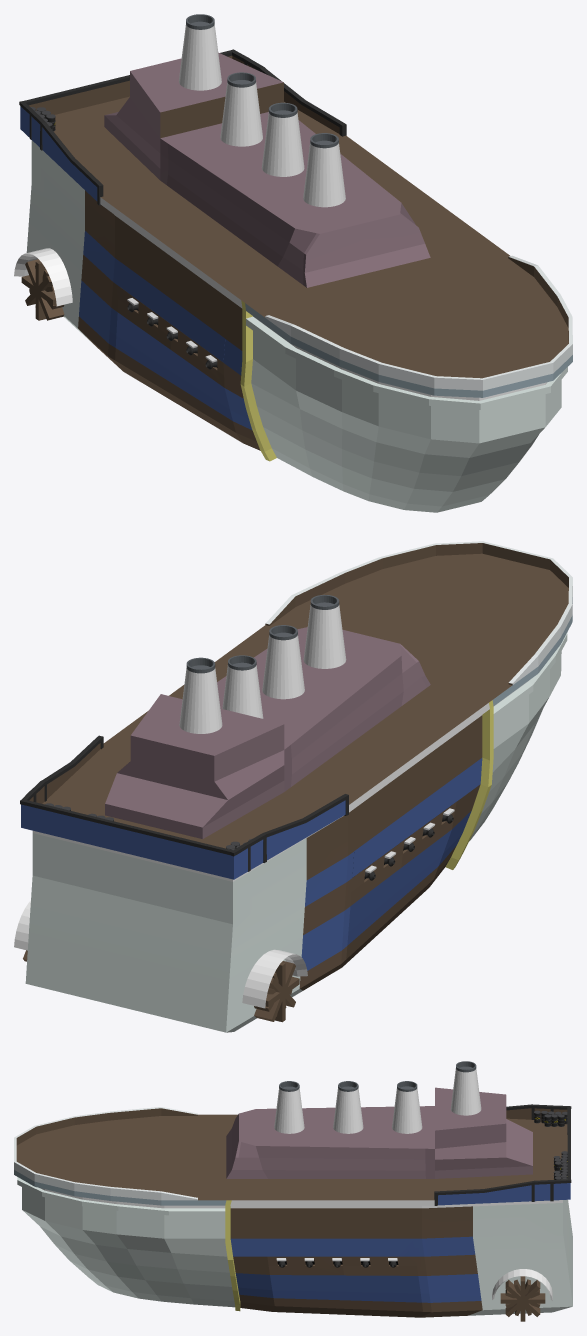
The model's file is Barco4.fbx.
3 renders of one model, top to bottom at view 1: azimuth 30°, elevation 25°; view 2: azimuth 150°, elevation 25°; view 3: azimuth 270°, elevation 25°, orthographic. The views are drawn at different scales.
Parts seen in each view (by area): view 1: Cylinder.003; view 2: Cylinder.003; view 3: Cylinder.003.
Boxes of the visible parts, <box> form: Cylinder.003: <box>14,14,572,512</box>; Cylinder.003: <box>14,541,572,1032</box>; Cylinder.003: <box>14,1061,572,1321</box>.
Bounding box in the file's own units: 7.02 × 8.03 × 18.98.
